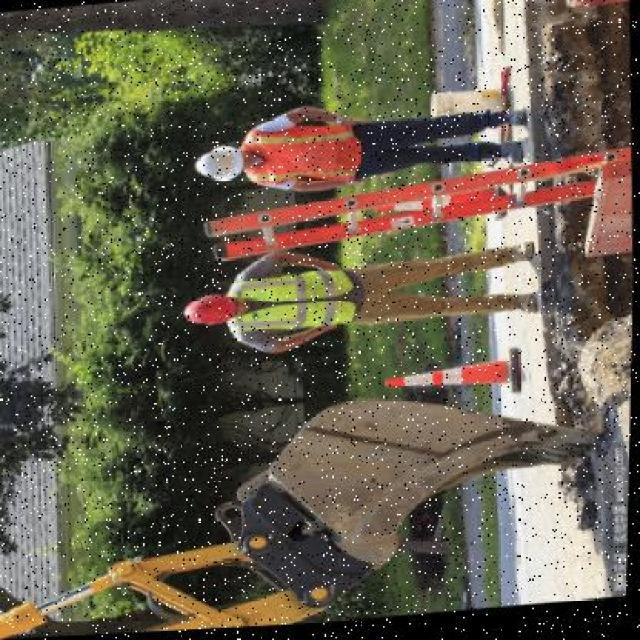helmet: (180, 291, 247, 329), (194, 142, 248, 186)
vest: (230, 269, 368, 344), (248, 126, 370, 185)
